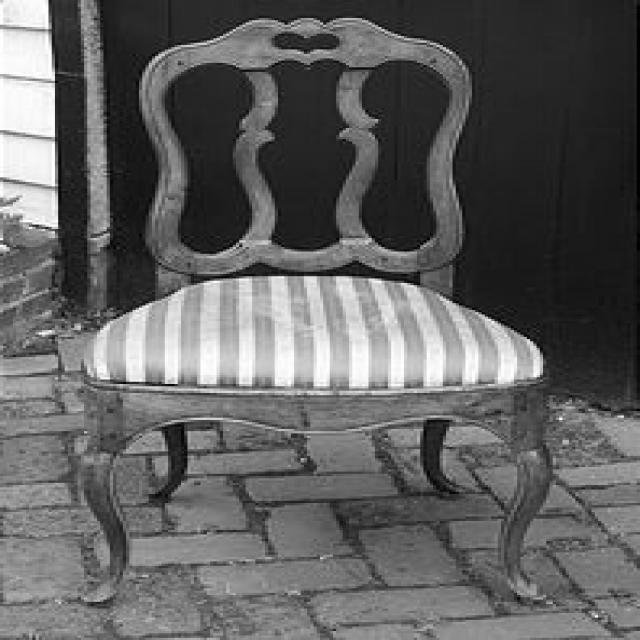chair: (79, 15, 566, 609)
